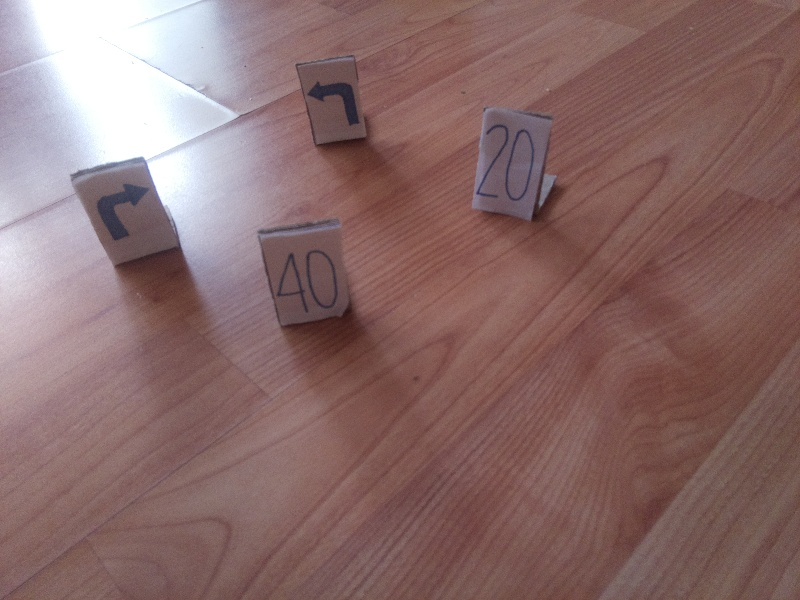20: (480, 122, 534, 201)
40: (273, 245, 345, 317)
turn left: (308, 76, 366, 133)
turn right: (92, 179, 151, 244)
